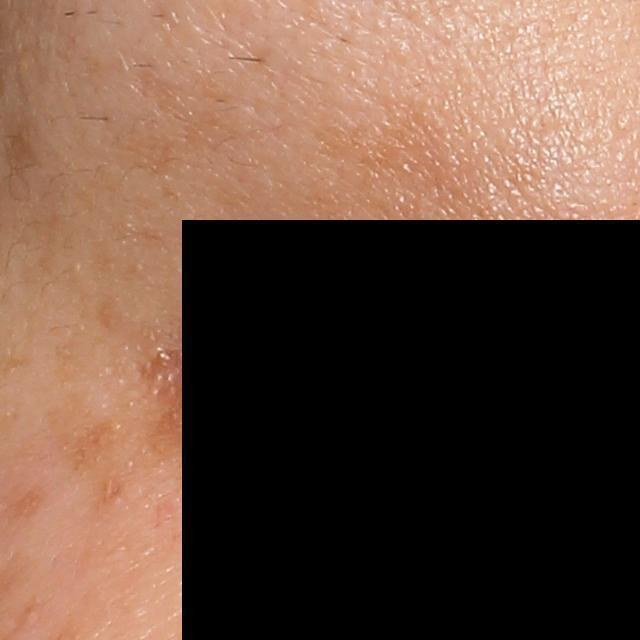melasma: (9, 485, 46, 526)
